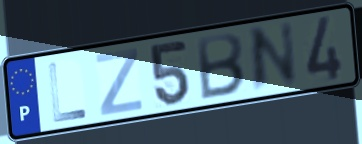4: (303, 12, 345, 85)
5: (147, 39, 192, 108)
B: (195, 30, 246, 102)
L: (46, 60, 90, 125)
N: (247, 18, 300, 97)
Z: (93, 45, 144, 118)
